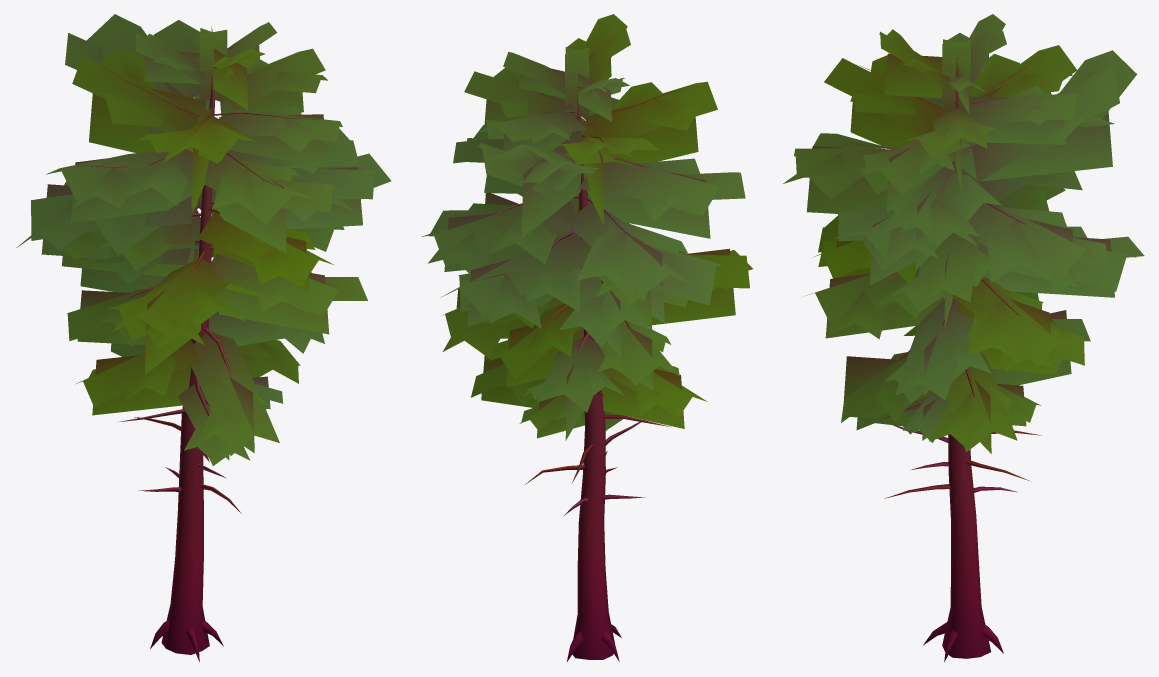
The model's file is pine_b.glb.
The picture shows the model from 3 angles, left to right: view 1: azimuth 30°, elevation 25°; view 2: azimuth 150°, elevation 25°; view 3: azimuth 270°, elevation 25°; orthographic projection. The views are drawn at different scales.
Visible parts, largest first — view 1: pine_b_LOD0; view 2: pine_b_LOD0; view 3: pine_b_LOD0.
Part boxes in pixels (x1,y1,x2,y2): pine_b_LOD0: [16, 14, 391, 661]; pine_b_LOD0: [421, 14, 752, 662]; pine_b_LOD0: [783, 14, 1144, 661].
Size of what is drawn, in the model's own units: 8.47 by 16.23 by 8.48.
